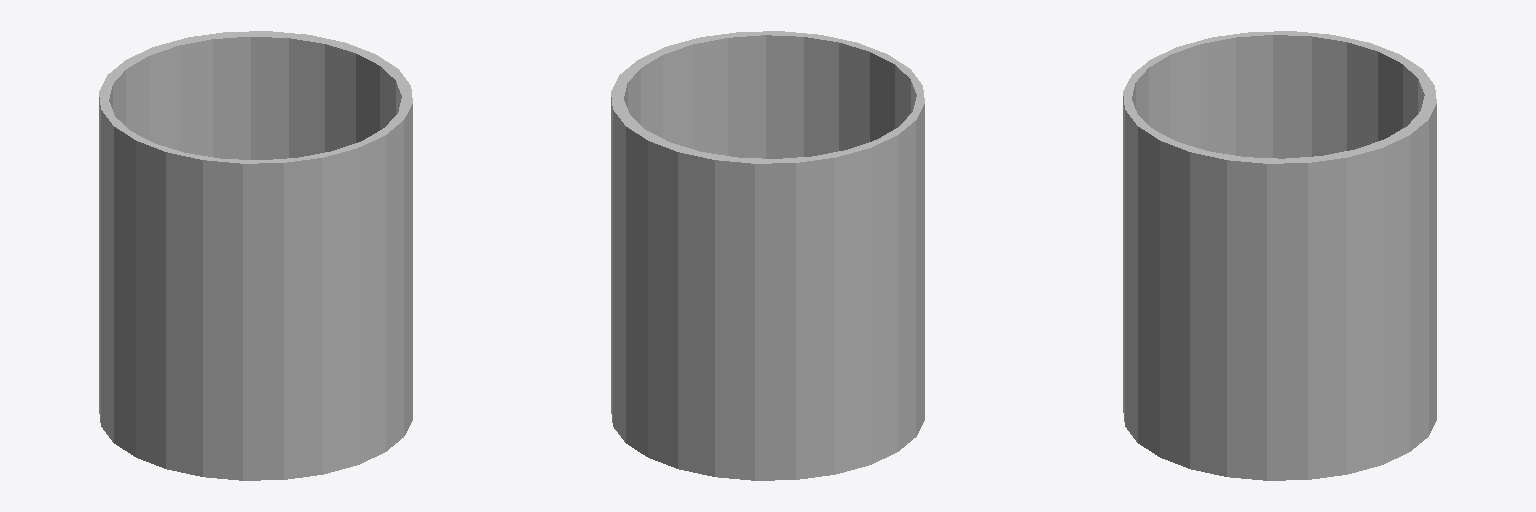
The picture shows the model from 3 angles: view 1: azimuth 30°, elevation 25°; view 2: azimuth 150°, elevation 25°; view 3: azimuth 270°, elevation 25°; orthographic projection.
Visible parts, largest first — view 1: model_normalized.001; view 2: model_normalized.001; view 3: model_normalized.001.
Part boxes in pixels (x1,y1,x2,y2): model_normalized.001: (99, 31, 412, 480); model_normalized.001: (611, 31, 924, 480); model_normalized.001: (1123, 31, 1436, 480).
Bounding box in the file's own units: 0.4751 × 0.5291 × 0.4749.